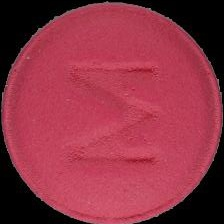21695-576: (0, 0, 224, 224)
